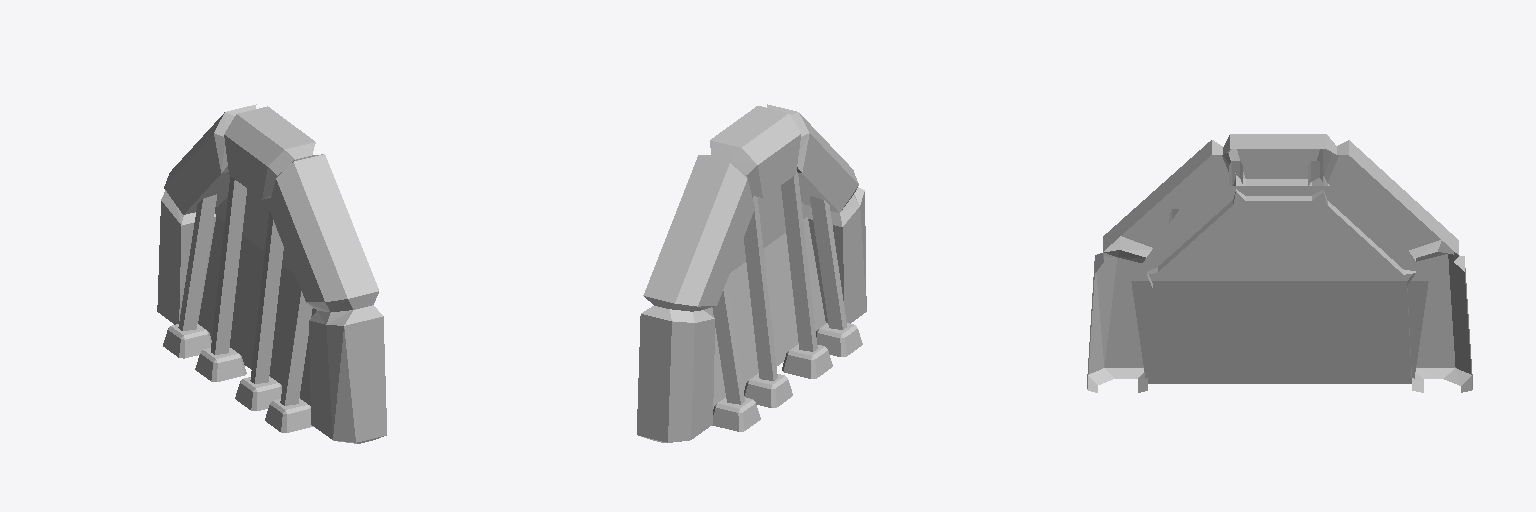
The model's file is Grate02.obj.
The picture shows the model from 3 angles: view 1: azimuth 30°, elevation 25°; view 2: azimuth 150°, elevation 25°; view 3: azimuth 270°, elevation 25°; orthographic projection.
Visible parts, largest first — view 1: Grate02; view 2: Grate02; view 3: Grate02.
Boxes of the visible parts, x1,y1,x2,y2 form: Grate02: [157, 104, 386, 443]; Grate02: [637, 104, 866, 442]; Grate02: [1087, 134, 1472, 392].
Bounding box in the file's own units: 0.1846 × 0.6248 × 0.8781.